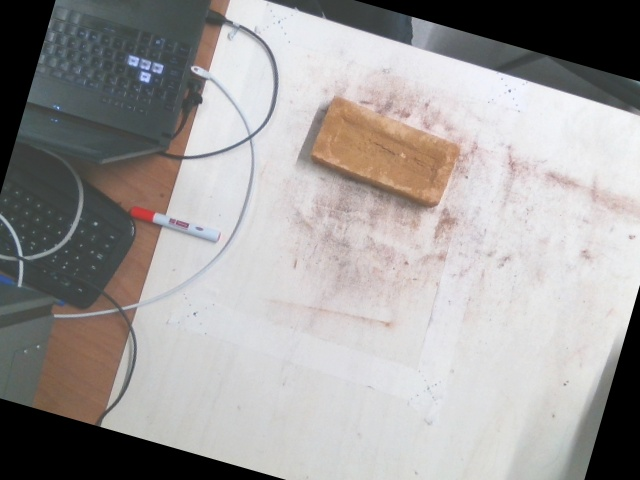brick: (312, 97, 459, 207)
